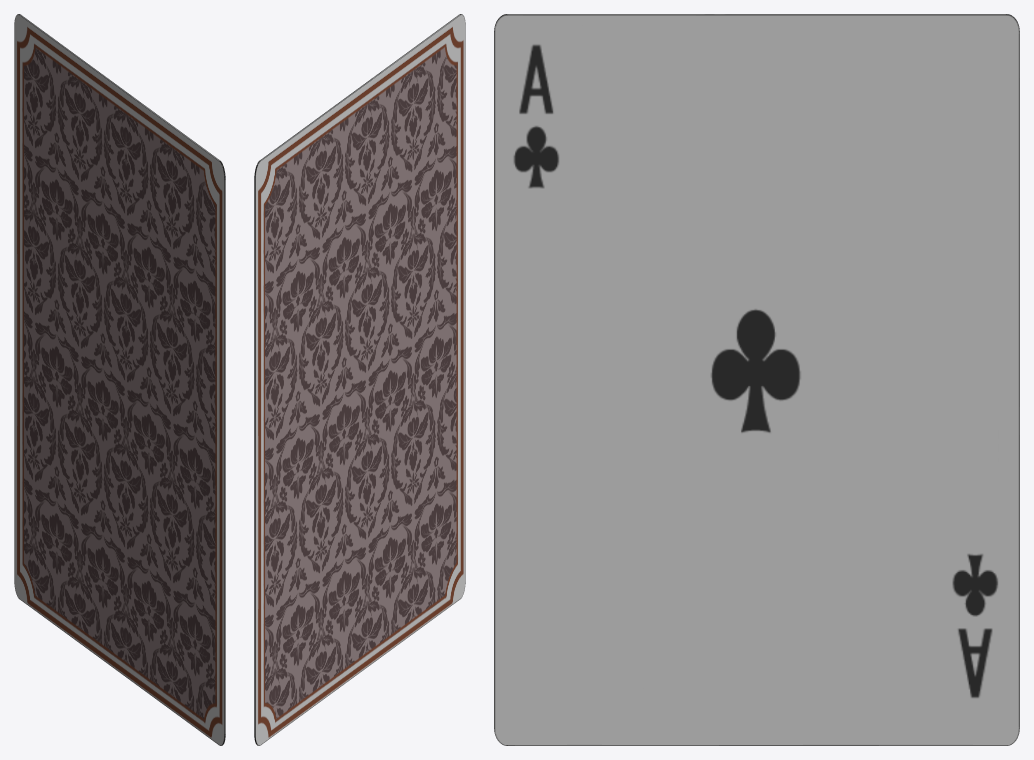
Rendered from clover1.glb.
3 views of the same model, side by side, from view 1: azimuth 30°, elevation 25°; view 2: azimuth 150°, elevation 25°; view 3: azimuth 270°, elevation 25° (orthographic). The views are drawn at different scales.
Visible parts, largest first — view 1: Cube; view 2: Cube; view 3: Cube.
Part boxes in pixels (left/top/right/bottom): Cube: left=14, top=14, right=225, bottom=745; Cube: left=254, top=14, right=465, bottom=745; Cube: left=494, top=14, right=1019, bottom=745.
Size of the model in its own units: 0.036 by 17.8 by 11.6.
Materials: 1 (1 with a texture image).
